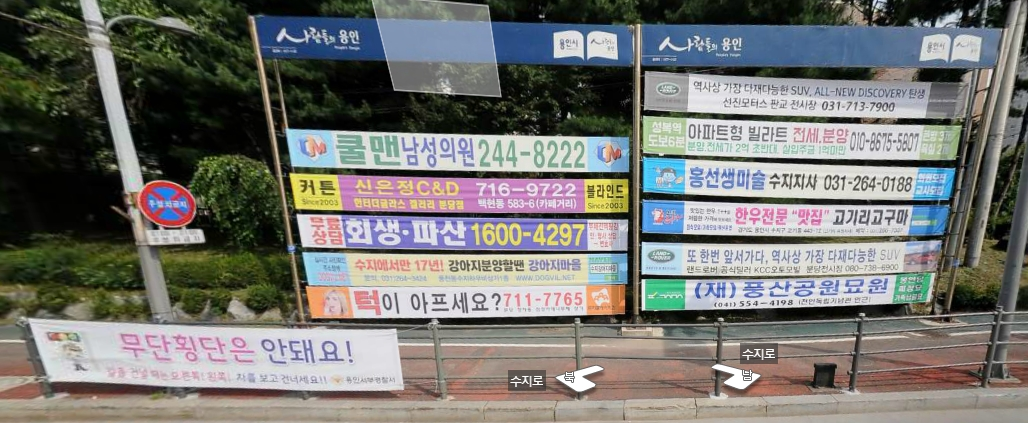banner: (30, 315, 415, 396), (285, 168, 631, 223), (285, 124, 633, 177), (640, 66, 970, 121), (639, 114, 962, 166), (637, 193, 956, 242), (636, 158, 959, 205), (303, 278, 635, 321), (301, 243, 641, 284), (291, 216, 630, 256), (629, 274, 938, 313), (644, 239, 950, 274)
